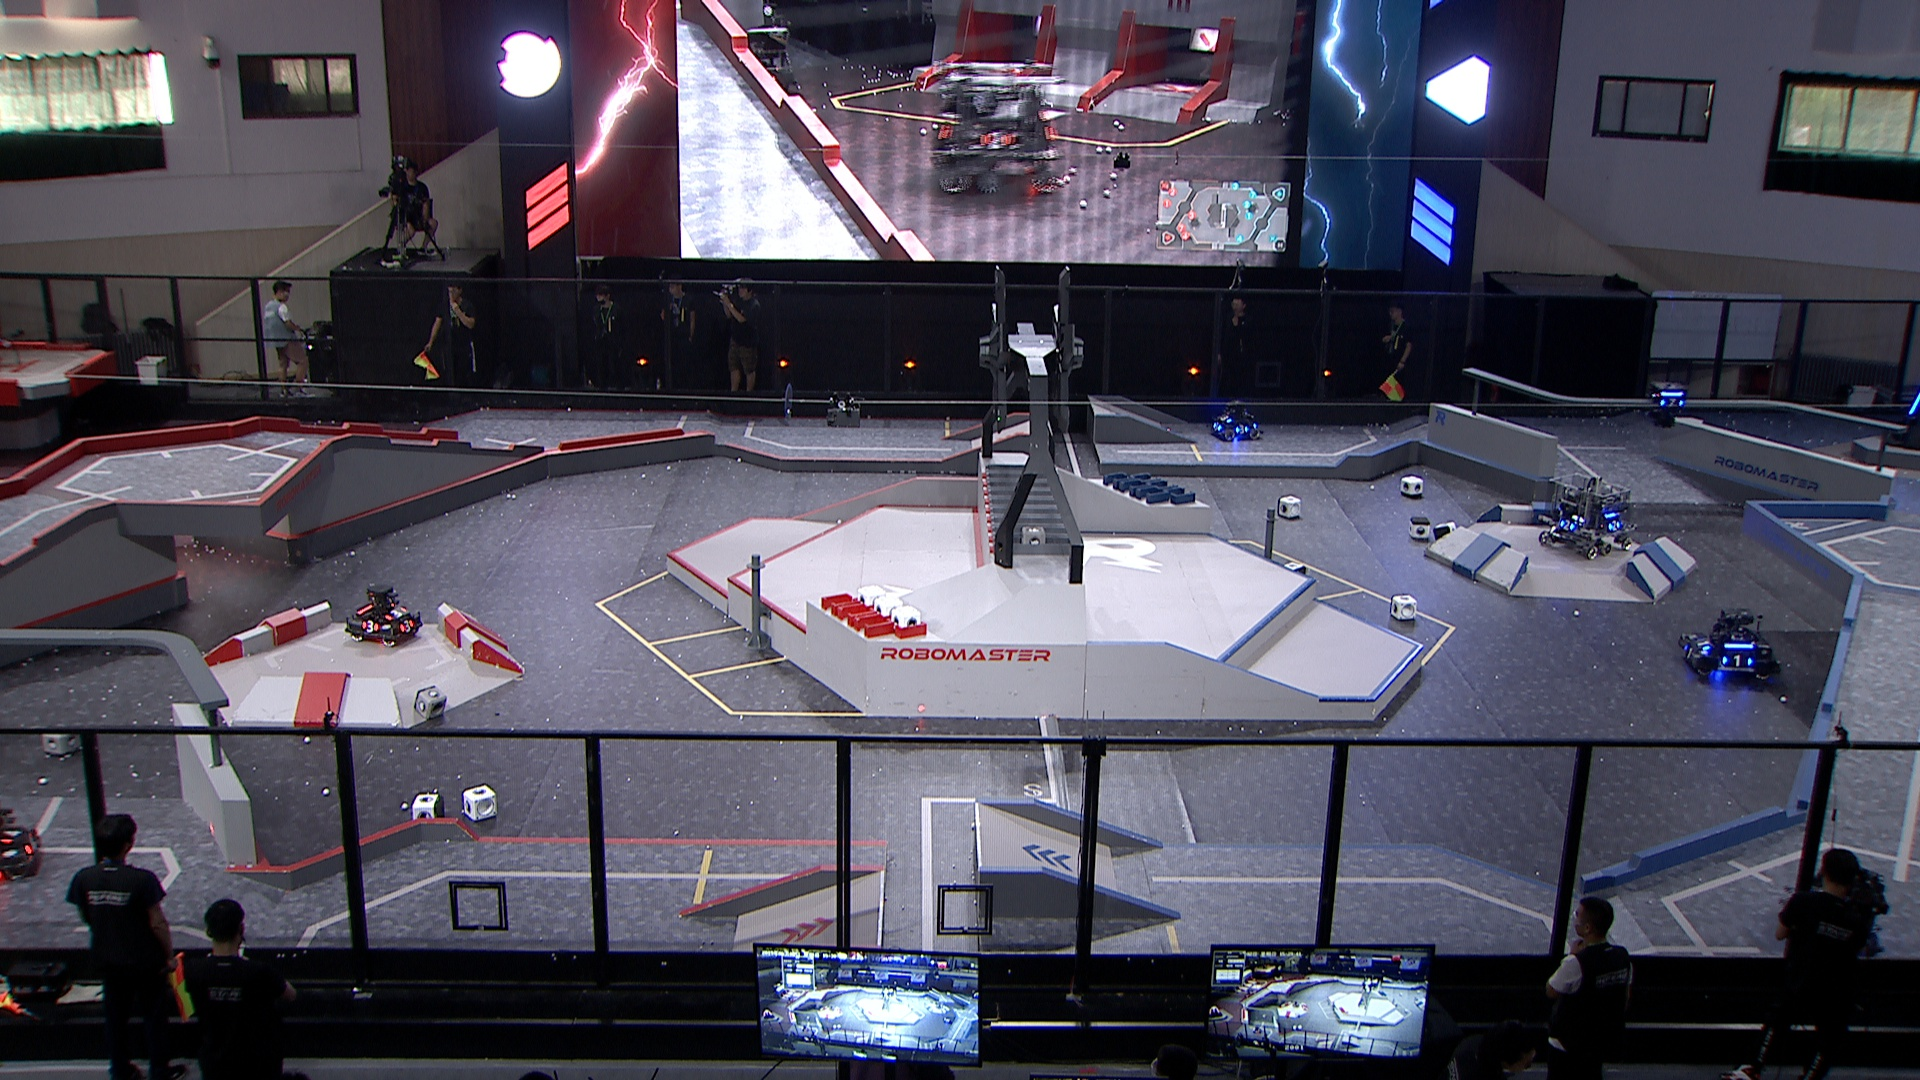armor: (0, 822, 26, 844), (1721, 651, 1754, 669), (381, 603, 407, 621), (24, 827, 41, 855), (1904, 390, 1920, 417), (359, 617, 380, 636), (1679, 644, 1698, 662), (1695, 633, 1713, 651), (1660, 396, 1687, 407), (400, 616, 415, 632), (1604, 520, 1623, 531), (1557, 520, 1577, 531), (1216, 411, 1233, 423), (1234, 423, 1247, 434), (1211, 422, 1222, 433)
base: (1882, 357, 1920, 456)
car: (1542, 473, 1640, 556), (1675, 604, 1780, 680), (343, 585, 425, 647), (1207, 398, 1262, 439)
ignore: (930, 63, 1062, 196), (736, 18, 802, 109)
watcher: (1644, 381, 1692, 429)
